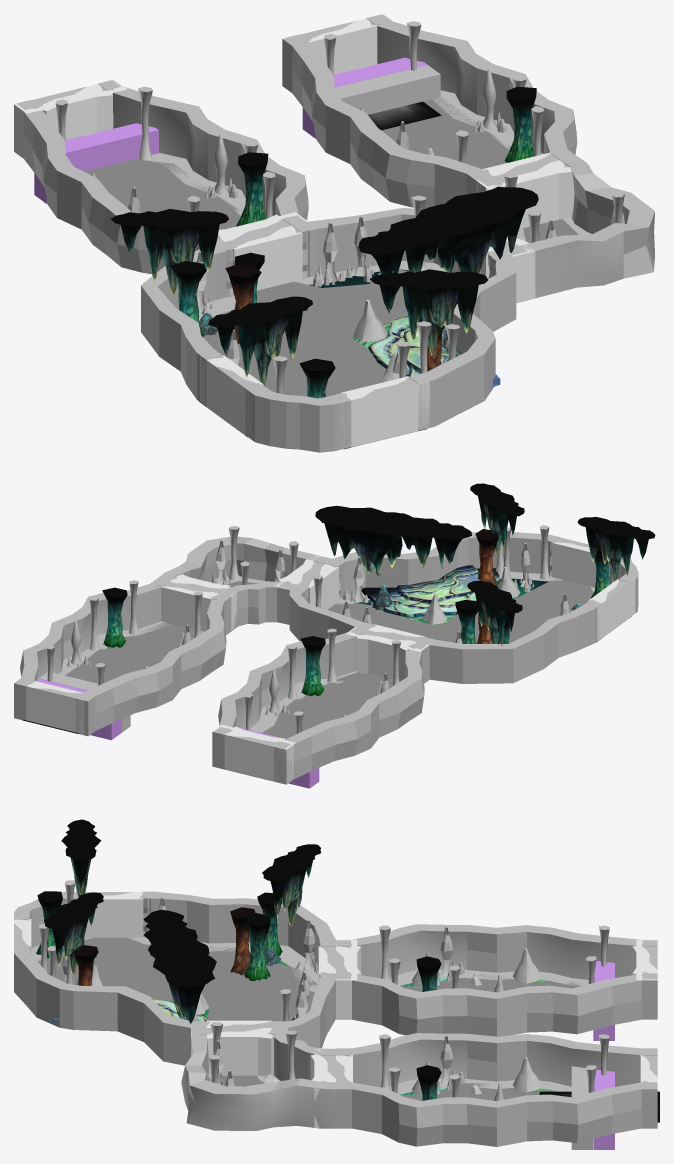
3 renders of one model, top to bottom at view 1: azimuth 30°, elevation 25°; view 2: azimuth 150°, elevation 25°; view 3: azimuth 270°, elevation 25°, orthographic. The views are drawn at different scales.
Visible parts, largest first — view 1: Dan1 (×3), Dun_061_Room_003_Object02, Dun_061_Room_003_wall, DoorWay_NavMask (3) (×5), Dun_061_Room_007_Nav, Dun_061_Road_002_Nav (×2), DoorWay_NavMask (1) (×4), AsyncLoad, Dungeon_061_Object_04_Pillar (×2), FieldDungeonEnter_60202_60201, Dan1_shadow (×2), Dun_061_Room_003_Object01 (+13 smaller); view 2: Dan1 (×3), Dun_061_Room_003_wall, Dun_061_Room_003_Object02, DoorWay_NavMask (3) (×4), Dun_061_Road_002_Nav (×2), DoorWay_NavMask (1) (×6), Dun_061_Room_007_Nav, Dun_061_Room_003_Object01, Dungeon_061_Object_04_Pillar (×2), Dan1_shadow (×2), Dungeon_011_Object_010, Dungeon_061_Object_010_4 (+5 smaller); view 3: Dan1 (×3), Dun_061_Room_003_wall, Dun_061_Room_003_Object02, Dun_061_Room_007_Nav, DoorWay_NavMask (3) (×2), DoorWay_NavMask (1), Dun_061_Road_002_Nav (×2), Dan1_shadow (×2), Dungeon_011_Object_010 (×2), Dungeon_061_Object_04_Pillar (×2), Dungeon_061_Object_010_4, Dun_061_Room_003_shadow (+9 smaller).
Boxes of the visible parts, <box> form: Dan1 (×3): <box>14,14,654,302</box>; Dun_061_Room_003_Object02: <box>111,186,538,385</box>; Dun_061_Room_003_wall: <box>141,208,516,452</box>; DoorWay_NavMask (3) (×5): <box>14,80,589,449</box>; Dun_061_Room_007_Nav: <box>203,269,408,396</box>; Dun_061_Road_002_Nav (×2): <box>84,98,510,229</box>; DoorWay_NavMask (1) (×4): <box>206,19,418,446</box>; AsyncLoad: <box>316,65,440,138</box>; Dungeon_061_Object_04_Pillar (×2): <box>236,86,536,226</box>; FieldDungeonEnter_60202_60201: <box>34,123,158,204</box>; Dan1_shadow (×2): <box>138,90,543,215</box>; Dun_061_Room_003_Object01: <box>357,316,500,387</box>; Dan1 (×3): <box>14,536,429,784</box>; Dun_061_Room_003_wall: <box>289,531,638,683</box>; Dun_061_Room_003_Object02: <box>315,483,655,646</box>; DoorWay_NavMask (3) (×4): <box>18,579,635,783</box>; Dun_061_Road_002_Nav (×2): <box>65,622,393,738</box>; DoorWay_NavMask (1) (×6): <box>26,542,630,778</box>; Dun_061_Room_007_Nav: <box>327,578,593,643</box>; Dun_061_Room_003_Object01: <box>361,565,500,621</box>; Dungeon_061_Object_04_Pillar (×2): <box>102,587,325,695</box>; Dan1_shadow (×2): <box>59,621,356,732</box>; Dungeon_011_Object_010: <box>475,529,498,585</box>; Dungeon_061_Object_010_4: <box>455,600,478,643</box>; Dan1 (×3): <box>181,924,657,1146</box>; Dun_061_Room_003_wall: <box>14,892,335,1065</box>; Dun_061_Room_003_Object02: <box>44,819,321,1023</box>; Dun_061_Room_007_Nav: <box>37,937,317,1021</box>; DoorWay_NavMask (3) (×2): <box>191,939,357,1075</box>; DoorWay_NavMask (1): <box>84,892,143,937</box>; Dun_061_Road_002_Nav (×2): <box>400,974,583,1100</box>; Dan1_shadow (×2): <box>389,969,588,1094</box>; Dungeon_011_Object_010 (×2): <box>73,907,255,985</box>; Dungeon_061_Object_04_Pillar (×2): <box>416,956,441,1100</box>; Dungeon_061_Object_010_4: <box>244,913,270,981</box>; Dun_061_Room_003_shadow: <box>31,937,318,1012</box>.
Size of the model in its own units: 25.74 by 6 by 30.1.
